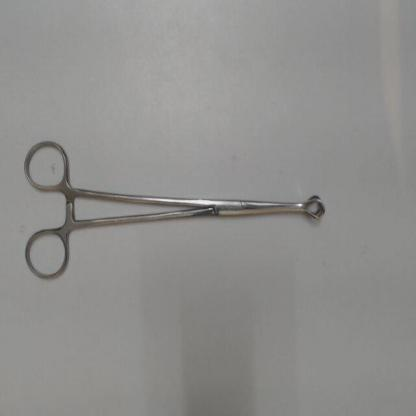8 Babcock Tissue Forceps: (18, 133, 330, 286)
